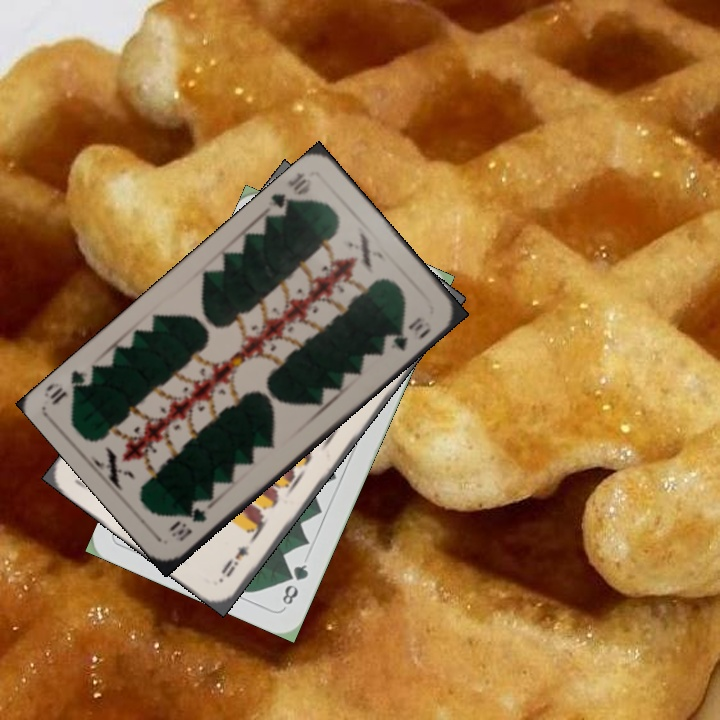E9: (216, 541, 253, 580)
G10: (264, 168, 314, 220), (166, 503, 209, 544)
G8: (278, 560, 311, 608)
